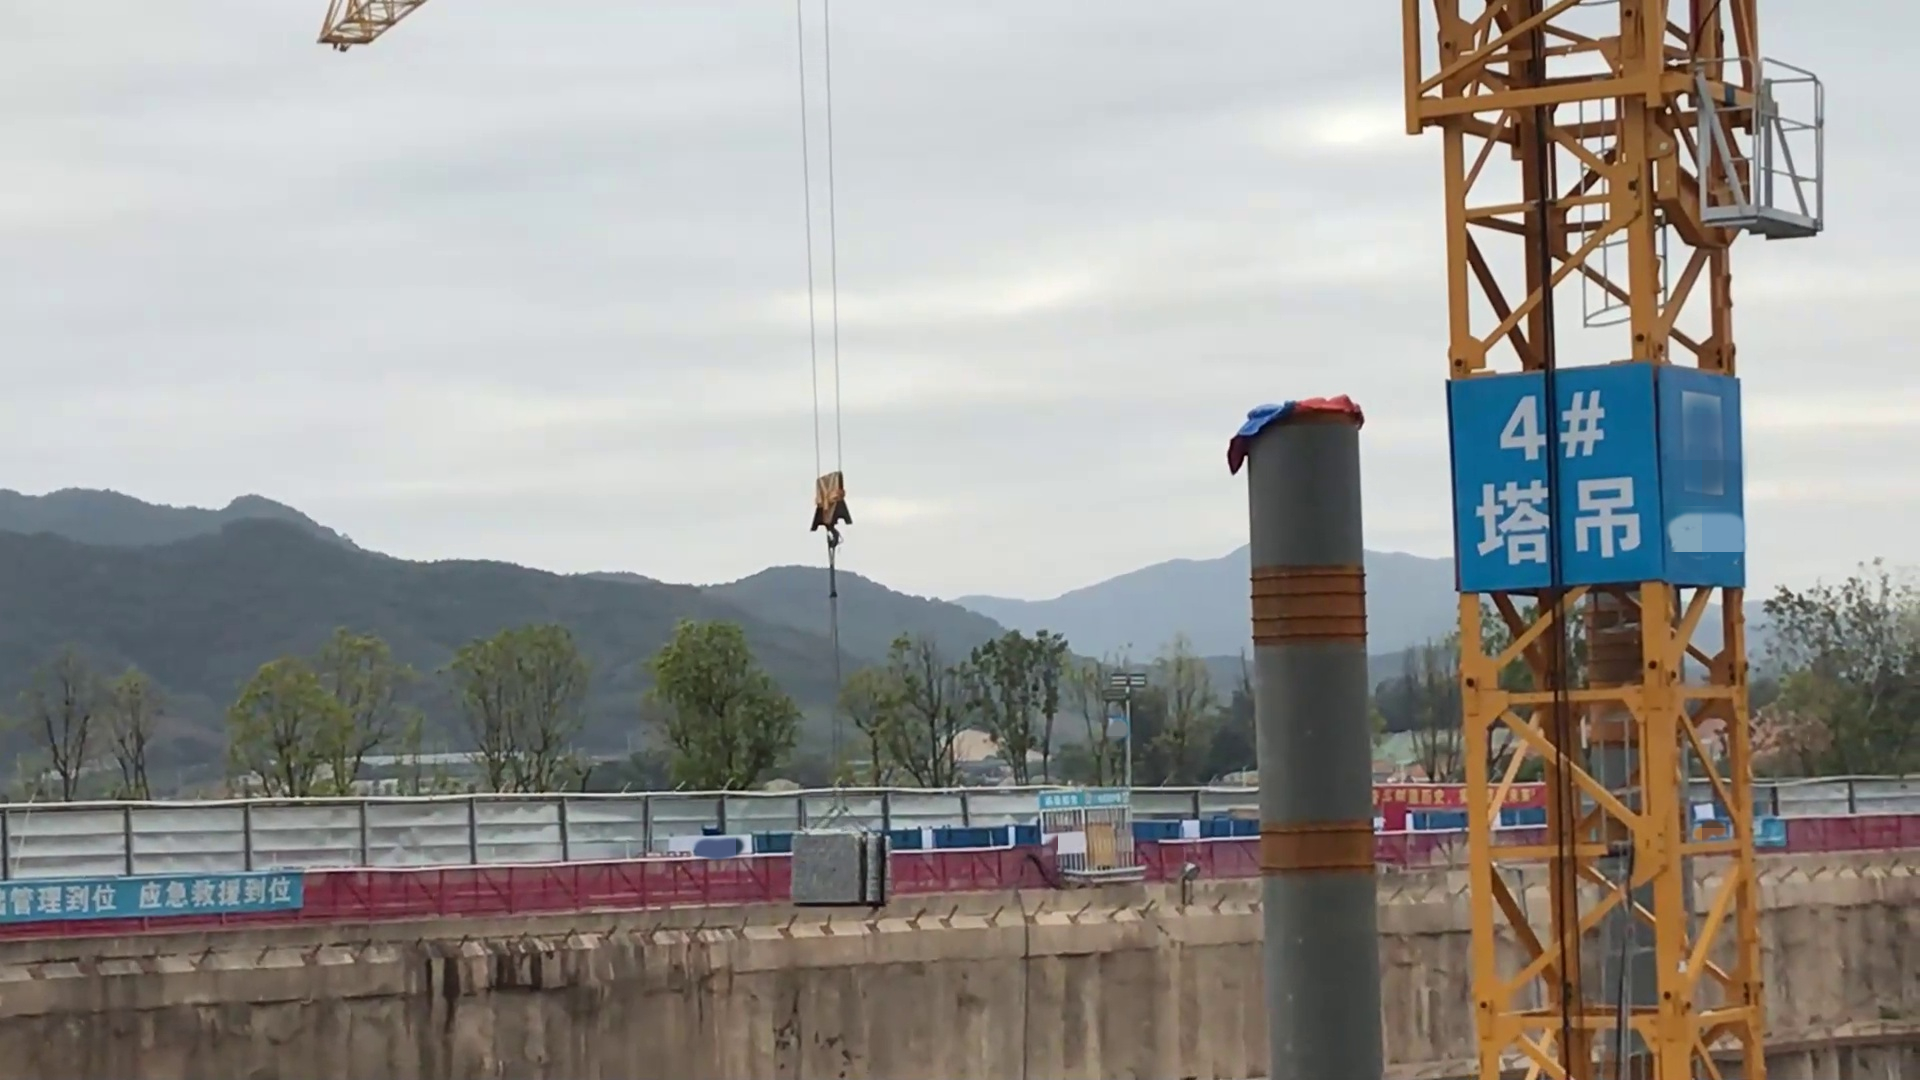fence: (12, 807, 1920, 945)
hook: (804, 469, 856, 543)
scaffold: (783, 828, 891, 911)
slogan: (4, 873, 295, 920), (1364, 787, 1557, 808)
